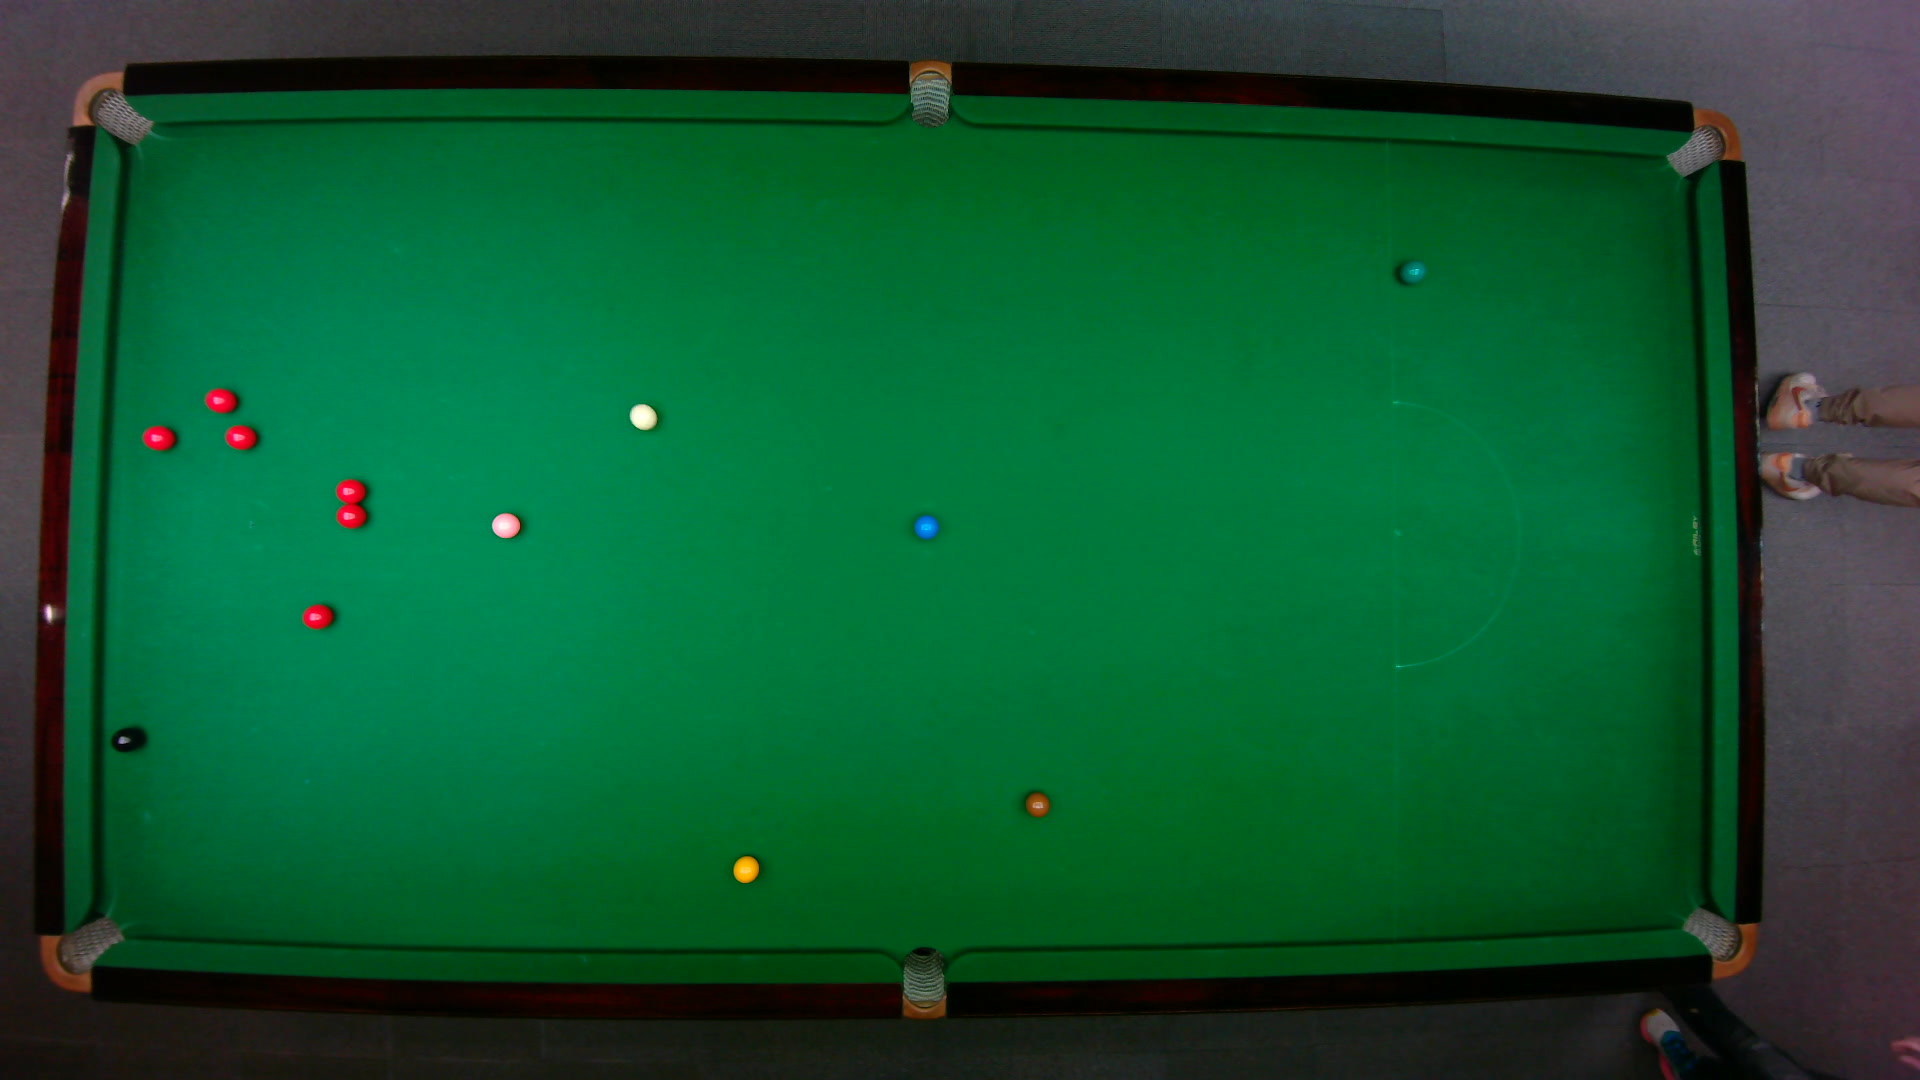bag: (37, 913, 127, 993), (69, 69, 154, 146), (1677, 905, 1758, 978), (1663, 107, 1741, 178), (901, 944, 945, 1021), (909, 57, 949, 128)
black: (108, 725, 140, 752)
blue: (911, 513, 939, 541)
brown: (1022, 791, 1050, 818)
green: (1396, 258, 1425, 284)
pink: (489, 509, 521, 539)
red: (299, 601, 334, 630), (203, 385, 237, 413), (223, 423, 257, 450), (141, 425, 175, 451), (334, 502, 367, 529), (334, 476, 367, 502)
white: (626, 401, 658, 430)
yellow: (731, 855, 760, 884)
zone: (1391, 398, 1520, 669)
